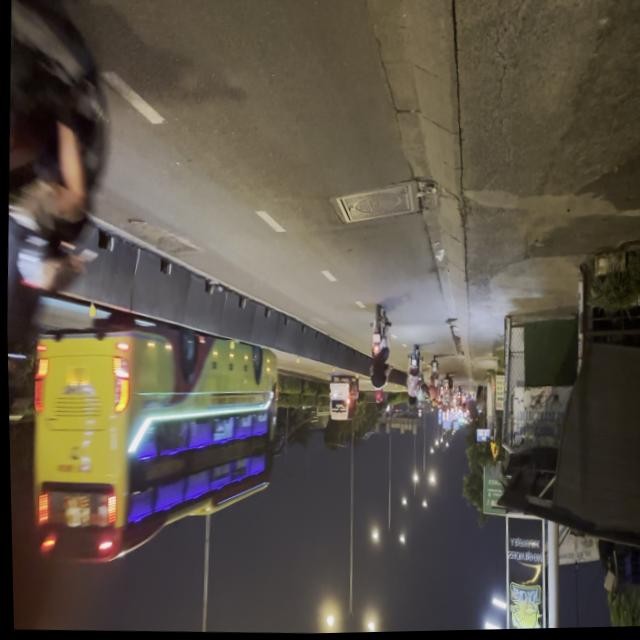helmet: (6, 350, 28, 433)
licenseplate: (0, 0, 137, 633)
